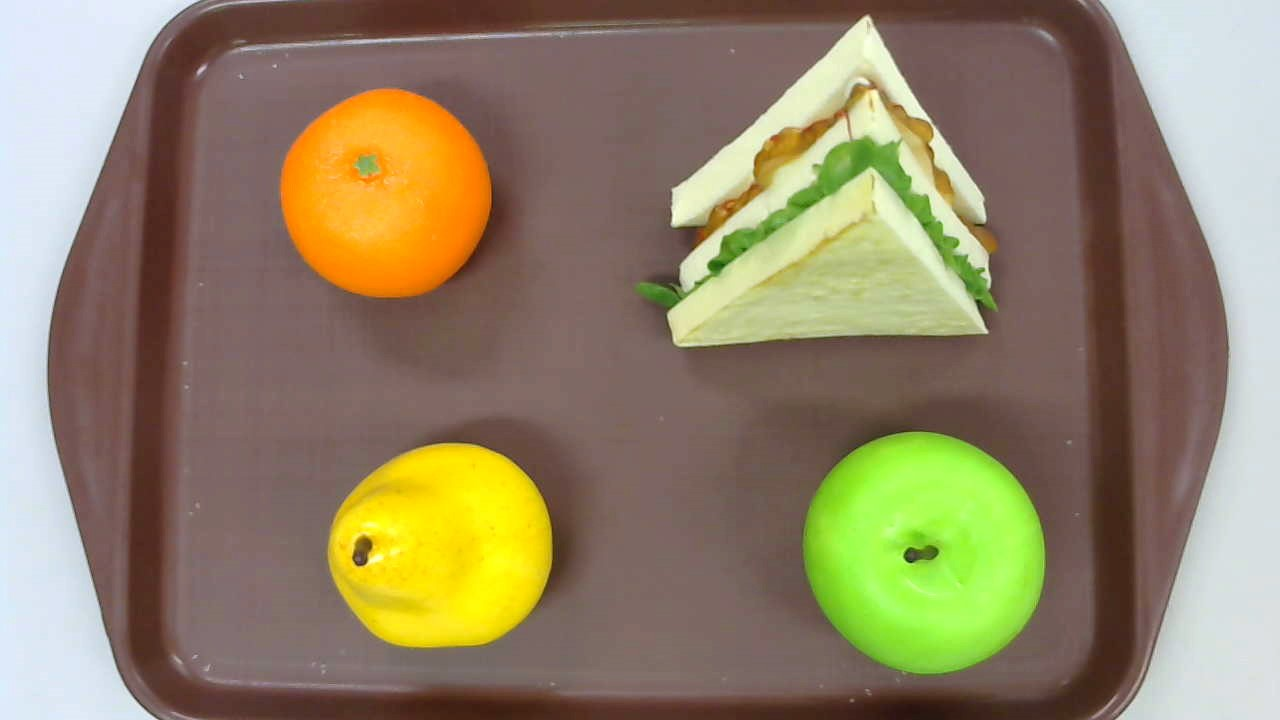green apple: (801, 429, 1045, 672)
orange: (278, 88, 493, 298)
sandwich: (634, 15, 1000, 347)
yellow pear: (326, 442, 556, 649)
